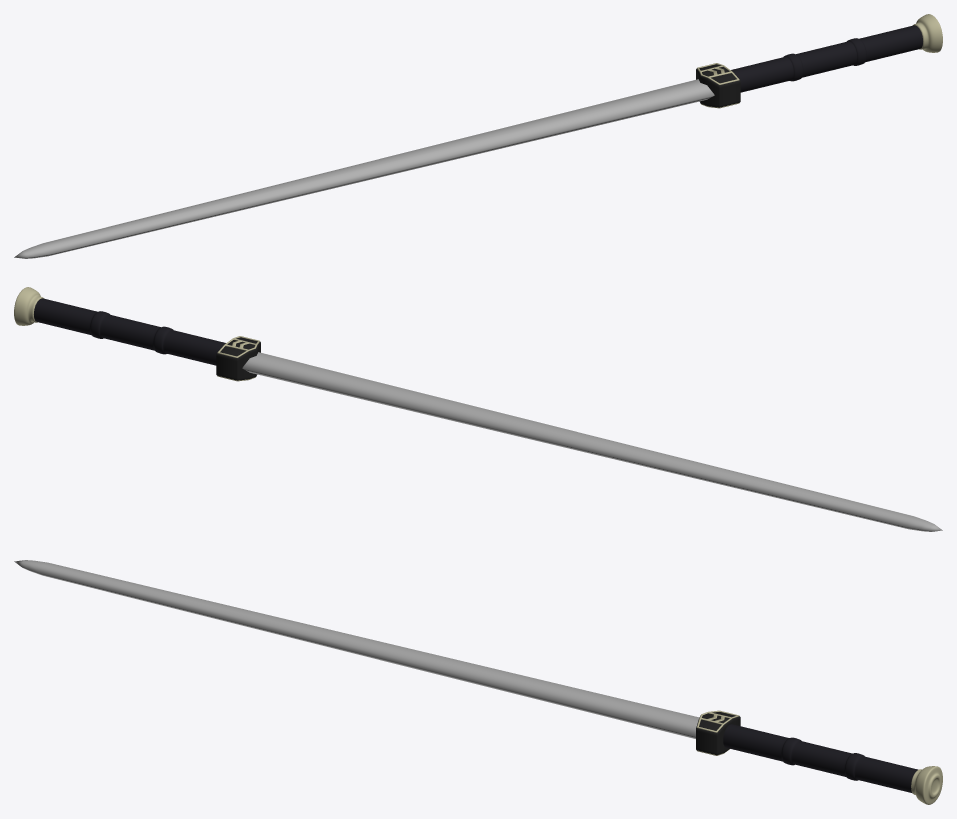
Rendered from chinese hexagon jian (sword).fbx.
3 views of the same model, one above another, from view 1: azimuth 30°, elevation 25°; view 2: azimuth 150°, elevation 25°; view 3: azimuth 330°, elevation 25° (orthographic).
Visible parts, largest first — view 1: Cube, Cube.001, Cube.002, Cube.003; view 2: Cube, Cube.001, Cube.002, Cube.003; view 3: Cube, Cube.001, Cube.002, Cube.003.
Boxes of the visible parts, x1,y1,x2,y2 form: Cube: (14, 79, 714, 258); Cube.001: (731, 25, 922, 92); Cube.002: (696, 64, 740, 107); Cube.003: (913, 14, 942, 52); Cube: (242, 352, 942, 531); Cube.001: (34, 298, 225, 365); Cube.002: (216, 337, 260, 380); Cube.003: (14, 287, 43, 325); Cube: (14, 560, 699, 738); Cube.001: (723, 724, 918, 793); Cube.002: (696, 712, 740, 755); Cube.003: (911, 766, 942, 804).
Size of the model in its own units: 96.37 by 3.53 by 4.3.
